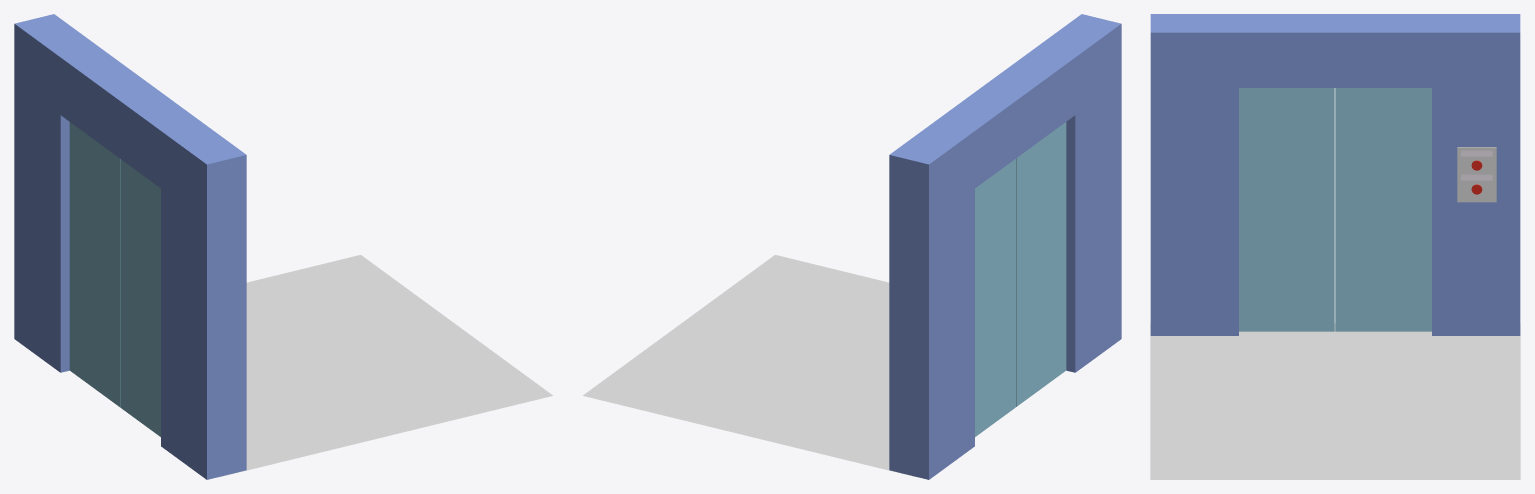
The model's file is Elevator.gltf.
3 views of the same model, side by side, from view 1: azimuth 30°, elevation 25°; view 2: azimuth 150°, elevation 25°; view 3: azimuth 270°, elevation 25° (orthographic). The views are drawn at different scales.
Parts seen in each view (by area): view 1: Door Frame, Plane, Right Door, Door Left; view 2: Door Frame, Plane, Door Left, Right Door; view 3: Door Frame, Plane, Right Door, Door Left, Keypad, Keypad.001.
Boxes of the visible parts, x1,y1,x2,y2 form: Door Frame: (14, 14, 246, 479); Plane: (220, 255, 552, 476); Right Door: (69, 122, 120, 406); Door Left: (120, 159, 160, 436); Door Frame: (889, 14, 1121, 479); Plane: (583, 255, 915, 476); Door Left: (1016, 122, 1066, 406); Right Door: (975, 159, 1015, 436); Door Frame: (1150, 14, 1520, 335); Plane: (1150, 323, 1520, 479); Right Door: (1335, 88, 1431, 331); Door Left: (1239, 88, 1334, 331); Keypad: (1457, 147, 1496, 202); Keypad.001: (1457, 147, 1496, 201).
Bounding box in the file's own units: 7.28 × 6.33 × 7.01.
